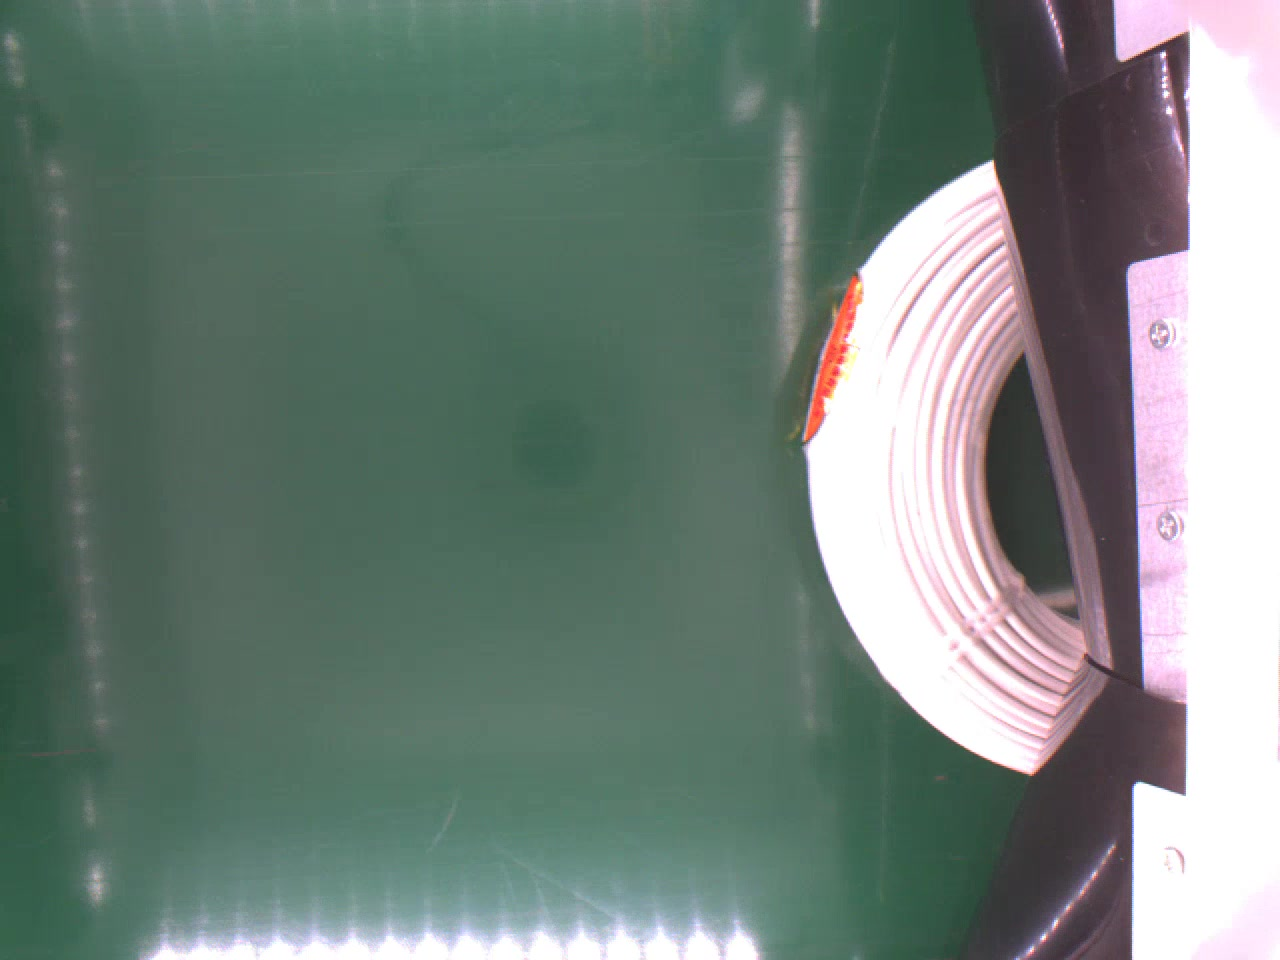white: (798, 157, 1084, 775)
